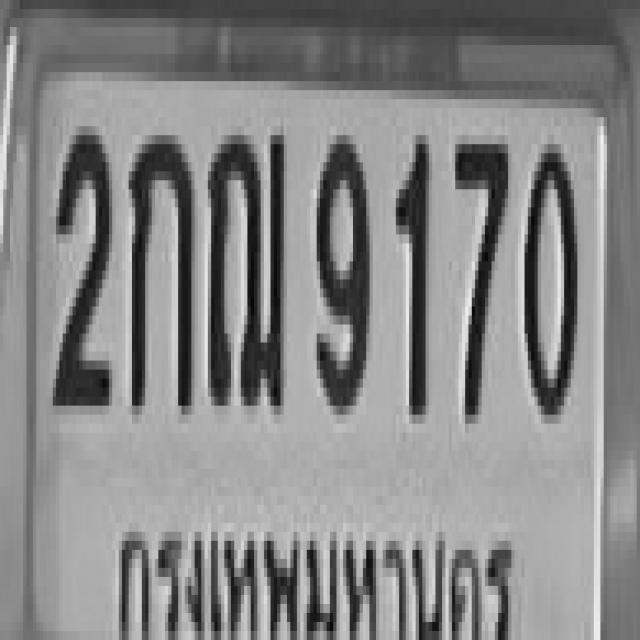0: (521, 135, 574, 415)
1: (392, 126, 426, 406)
10GorGai: (126, 126, 192, 406)
2: (49, 122, 109, 401)
21ChorChoe: (204, 126, 284, 406)
7: (452, 135, 505, 415)
9: (314, 126, 366, 406)
Bangkok: (111, 494, 522, 640)
